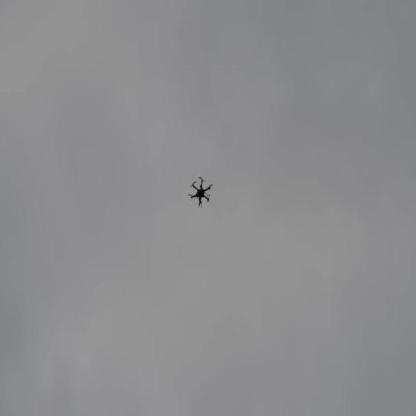drone: (186, 168, 213, 217)
